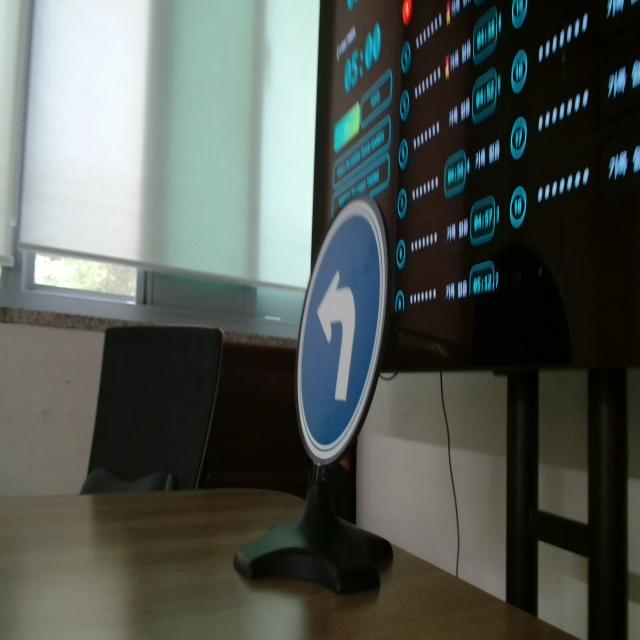left_direction: (286, 195, 389, 466)
